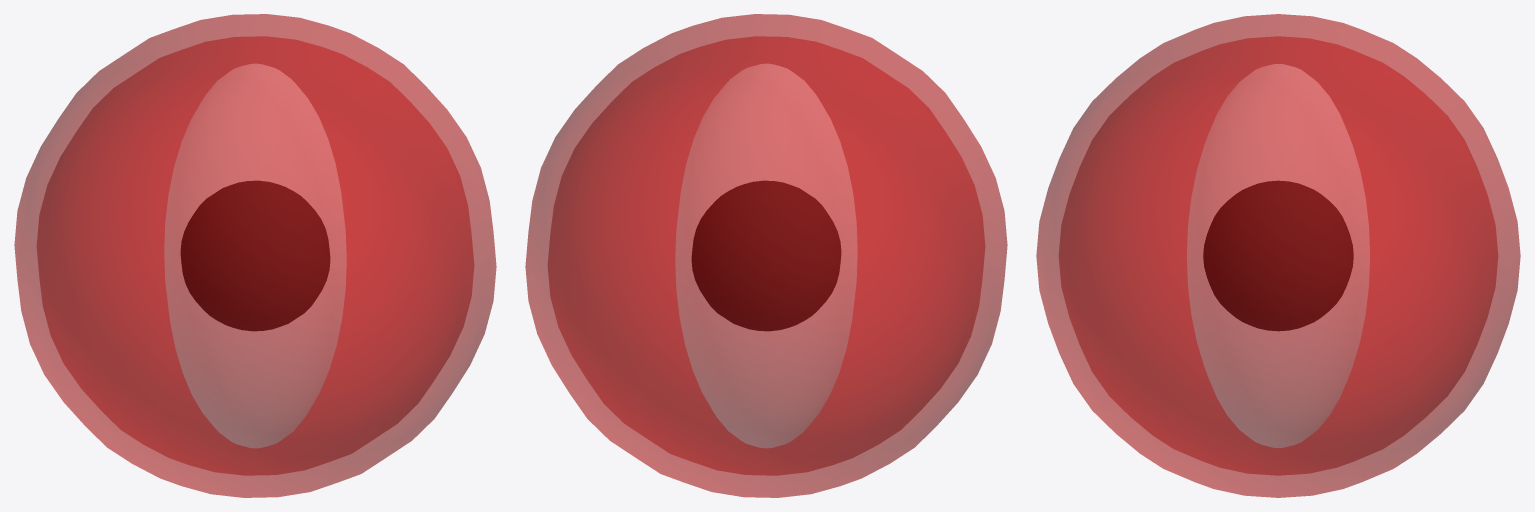
File: BOSS.fbx
3 renders of one model, left to right at view 1: azimuth 30°, elevation 25°; view 2: azimuth 150°, elevation 25°; view 3: azimuth 270°, elevation 25°, orthographic.
Parts seen in each view (by area): view 1: pSphere4, pSphere3, pSphere2, pSphere1; view 2: pSphere4, pSphere3, pSphere2, pSphere1; view 3: pSphere4, pSphere3, pSphere2, pSphere1.
Boxes of the visible parts, x1=… form: pSphere4: x1=14, y1=14, x2=496, y2=497; pSphere3: x1=37, y1=36, x2=473, y2=475; pSphere2: x1=165, y1=64, x2=345, y2=447; pSphere1: x1=181, y1=181, x2=329, y2=330; pSphere4: x1=525, y1=14, x2=1007, y2=497; pSphere3: x1=548, y1=36, x2=984, y2=475; pSphere2: x1=676, y1=64, x2=856, y2=447; pSphere1: x1=692, y1=181, x2=840, y2=330; pSphere4: x1=1036, y1=14, x2=1520, y2=497; pSphere3: x1=1059, y1=36, x2=1497, y2=475; pSphere2: x1=1187, y1=64, x2=1369, y2=447; pSphere1: x1=1203, y1=181, x2=1353, y2=330.
Size of the model in its own units: 2.2 by 2.2 by 2.2.
